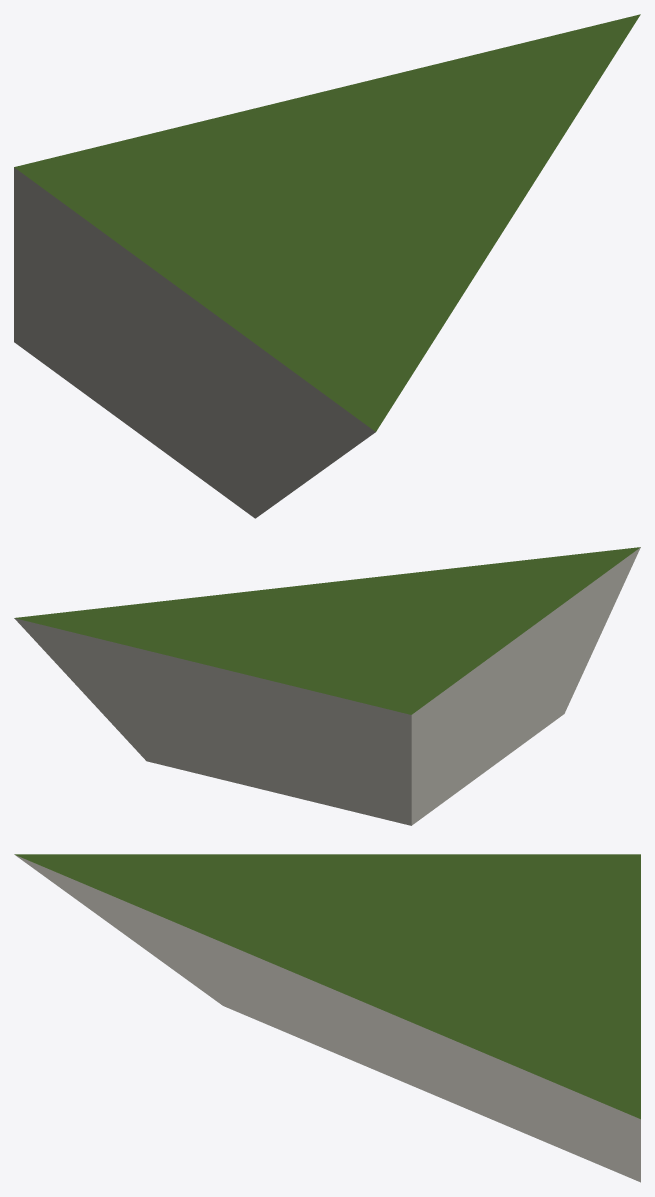
Rendered from Terrain_Modular_Tiles_Grass_Rock_Cliff_Edge_Corner_Outer_01.fbx.
3 views of the same model, one above another, from view 1: azimuth 30°, elevation 25°; view 2: azimuth 150°, elevation 25°; view 3: azimuth 270°, elevation 25° (orthographic). The views are drawn at different scales.
Parts seen in each view (by area): view 1: Terrain_Modular_Tiles_Grass_Rock_Cliff_Edge_Corner_Outer_01; view 2: Terrain_Modular_Tiles_Grass_Rock_Cliff_Edge_Corner_Outer_01; view 3: Terrain_Modular_Tiles_Grass_Rock_Cliff_Edge_Corner_Outer_01.
Boxes of the visible parts, box(x1,y1,x2,y2) form: Terrain_Modular_Tiles_Grass_Rock_Cliff_Edge_Corner_Outer_01: box(14, 14, 640, 518); Terrain_Modular_Tiles_Grass_Rock_Cliff_Edge_Corner_Outer_01: box(14, 547, 640, 825); Terrain_Modular_Tiles_Grass_Rock_Cliff_Edge_Corner_Outer_01: box(14, 854, 640, 1182).
Size of the model in its own units: 1125 by 300 by 1125.
